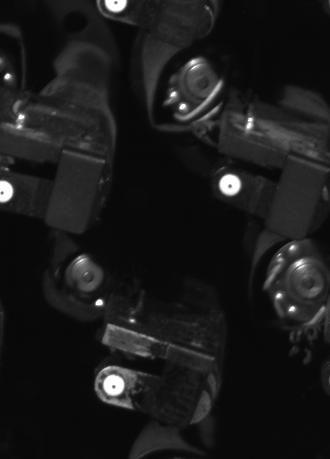fiber: (100, 371, 136, 401), (216, 170, 246, 200), (101, 1, 138, 23), (1, 178, 22, 208)
